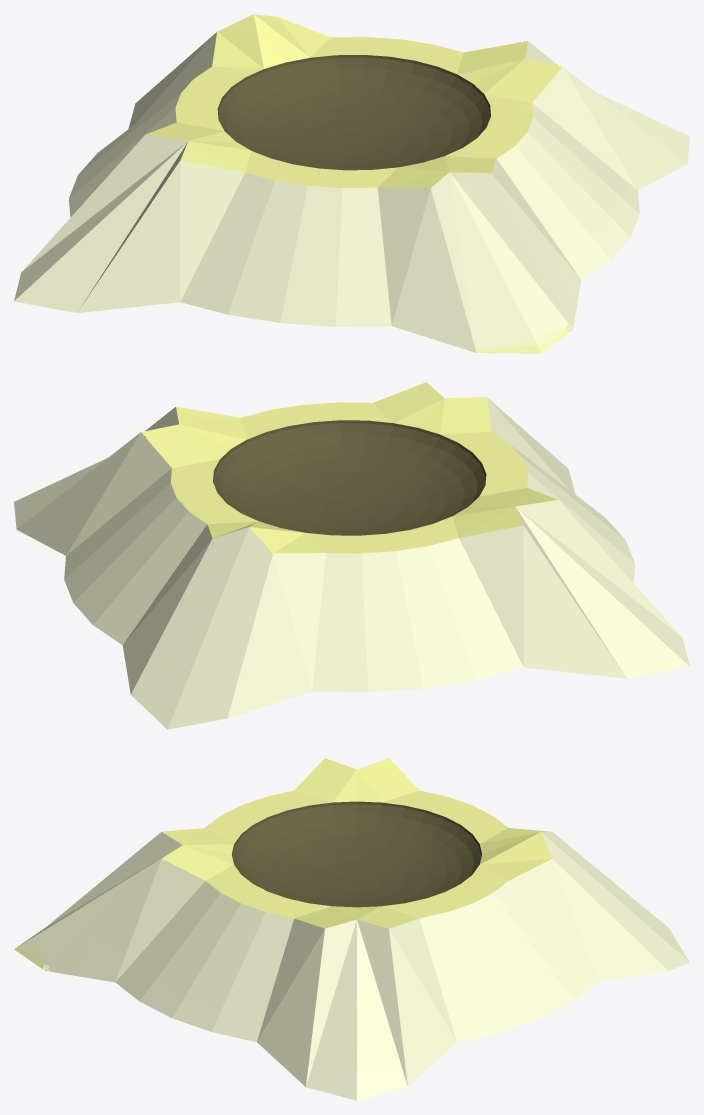
File: goalPlace.obj
3 renders of one model, top to bottom at view 1: azimuth 30°, elevation 25°; view 2: azimuth 150°, elevation 25°; view 3: azimuth 270°, elevation 25°, orthographic. The views are drawn at different scales.
Parts seen in each view (by area): view 1: 円柱; view 2: 円柱; view 3: 円柱.
Part boxes in pixels (box(x1,y1,x2,y2)): 円柱: box(14, 14, 689, 353); 円柱: box(14, 382, 689, 729); 円柱: box(14, 758, 689, 1100).
Bounding box in the file's own units: 2.73 × 0.5516 × 2.58.
1 material, 1 textured.
